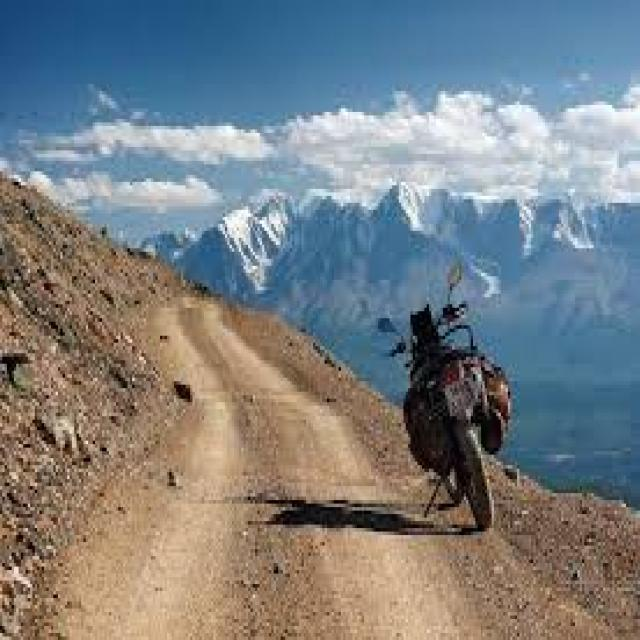MOTORCYCLE: (408, 352, 496, 532)
